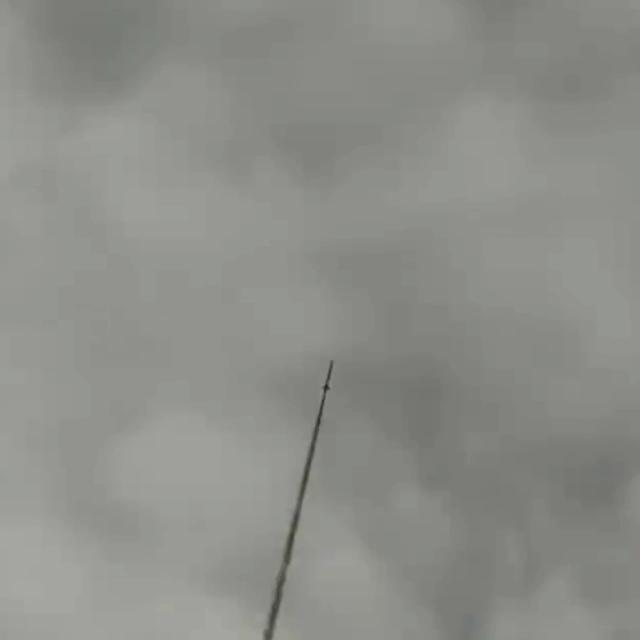smoke_trail_with_rocket: (259, 360, 332, 640)
